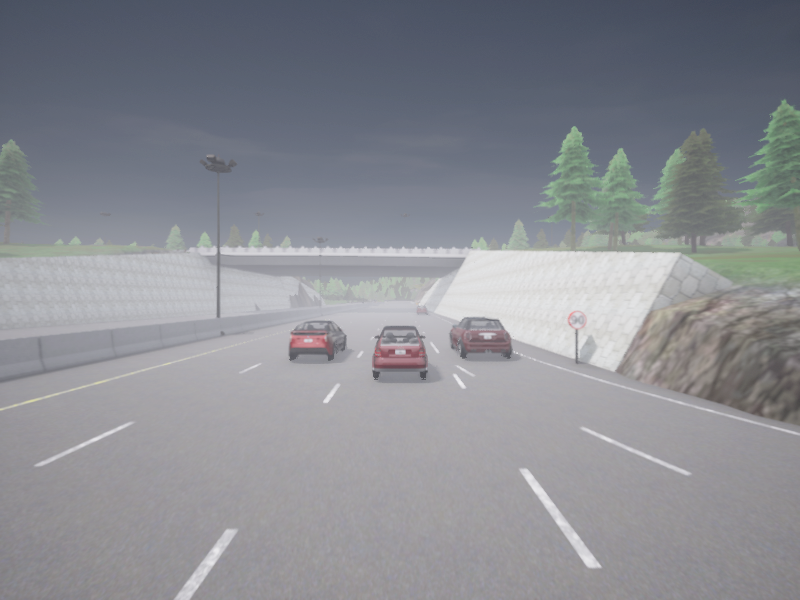vehicle: (372, 325, 427, 378), (449, 316, 511, 357), (288, 320, 346, 359), (416, 305, 426, 314)
